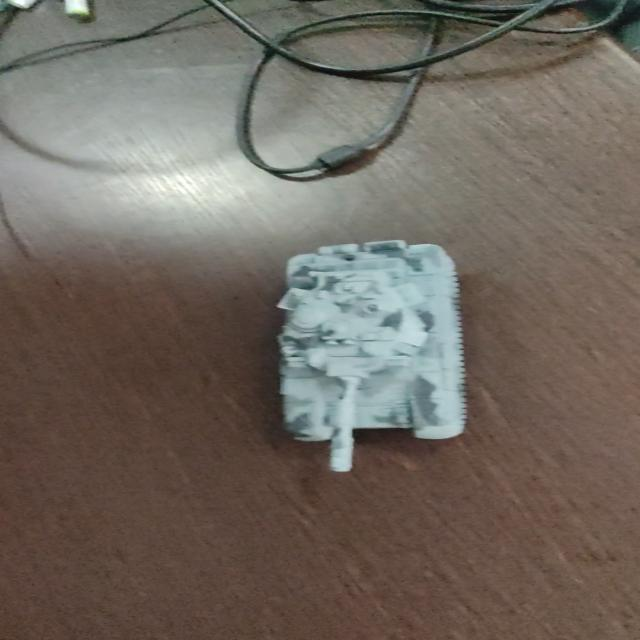tank: (275, 236, 470, 473)
